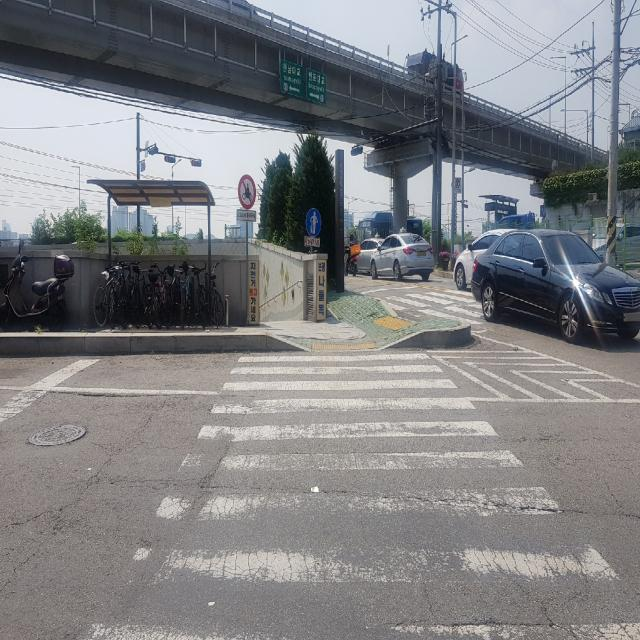횡단보도: (77, 347, 640, 639), (380, 290, 494, 324)
